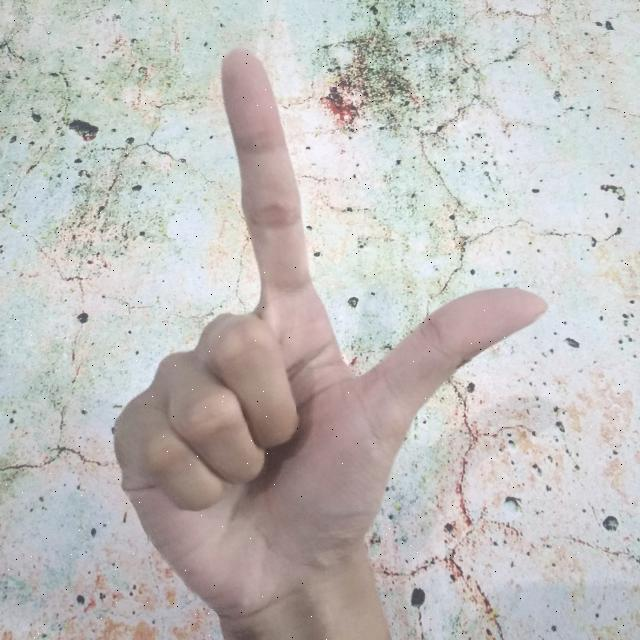L: (108, 43, 553, 640)
